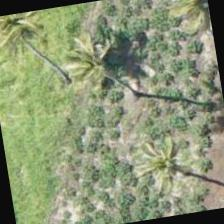Kelapa_Sawit: (15, 27, 118, 130), (84, 46, 188, 148), (108, 110, 211, 212), (156, 0, 220, 79)
